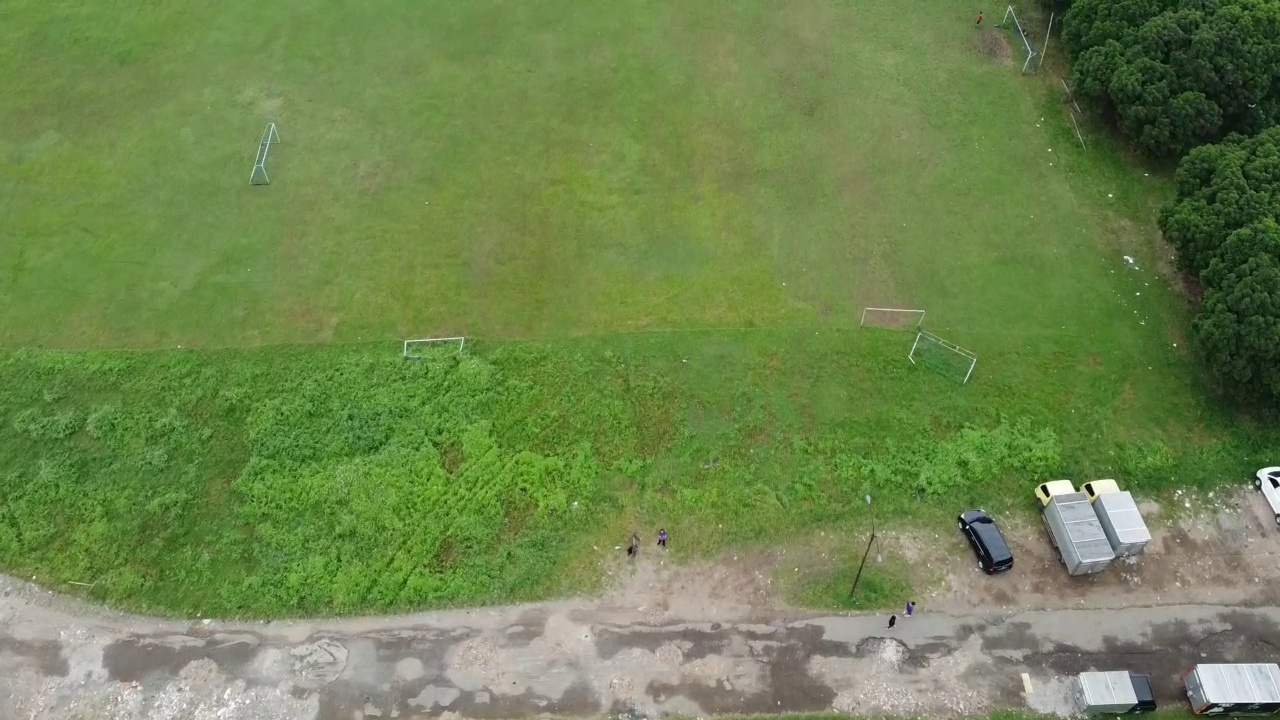mobil: (957, 501, 1020, 577), (1254, 455, 1280, 547)
